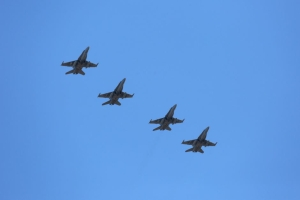flight: (60, 46, 100, 76), (97, 77, 136, 107), (148, 104, 186, 132), (181, 126, 218, 154)
